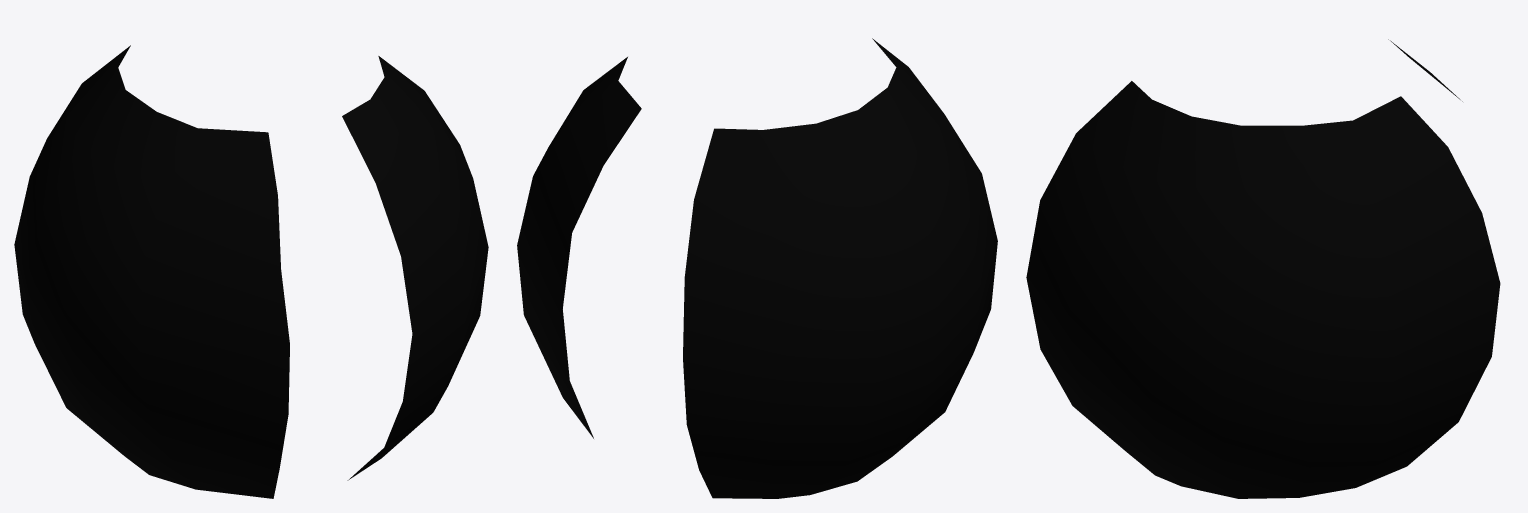
Rendered from bubble_solid_house2.glb.
The picture shows the model from 3 angles, left to right: view 1: azimuth 30°, elevation 25°; view 2: azimuth 150°, elevation 25°; view 3: azimuth 270°, elevation 25°; orthographic projection.
Visible parts, largest first — view 1: bubble_solid_texture.png__; view 2: bubble_solid_texture.png__; view 3: bubble_solid_texture.png__.
Part boxes in pixels (<box>): bubble_solid_texture.png__: <box>14,45,488,498</box>; bubble_solid_texture.png__: <box>517,38,997,498</box>; bubble_solid_texture.png__: <box>1026,39,1500,498</box>.
Size of the model in its own units: 6.5 by 5.61 by 6.63.
Materials: 1 (1 with a texture image).
